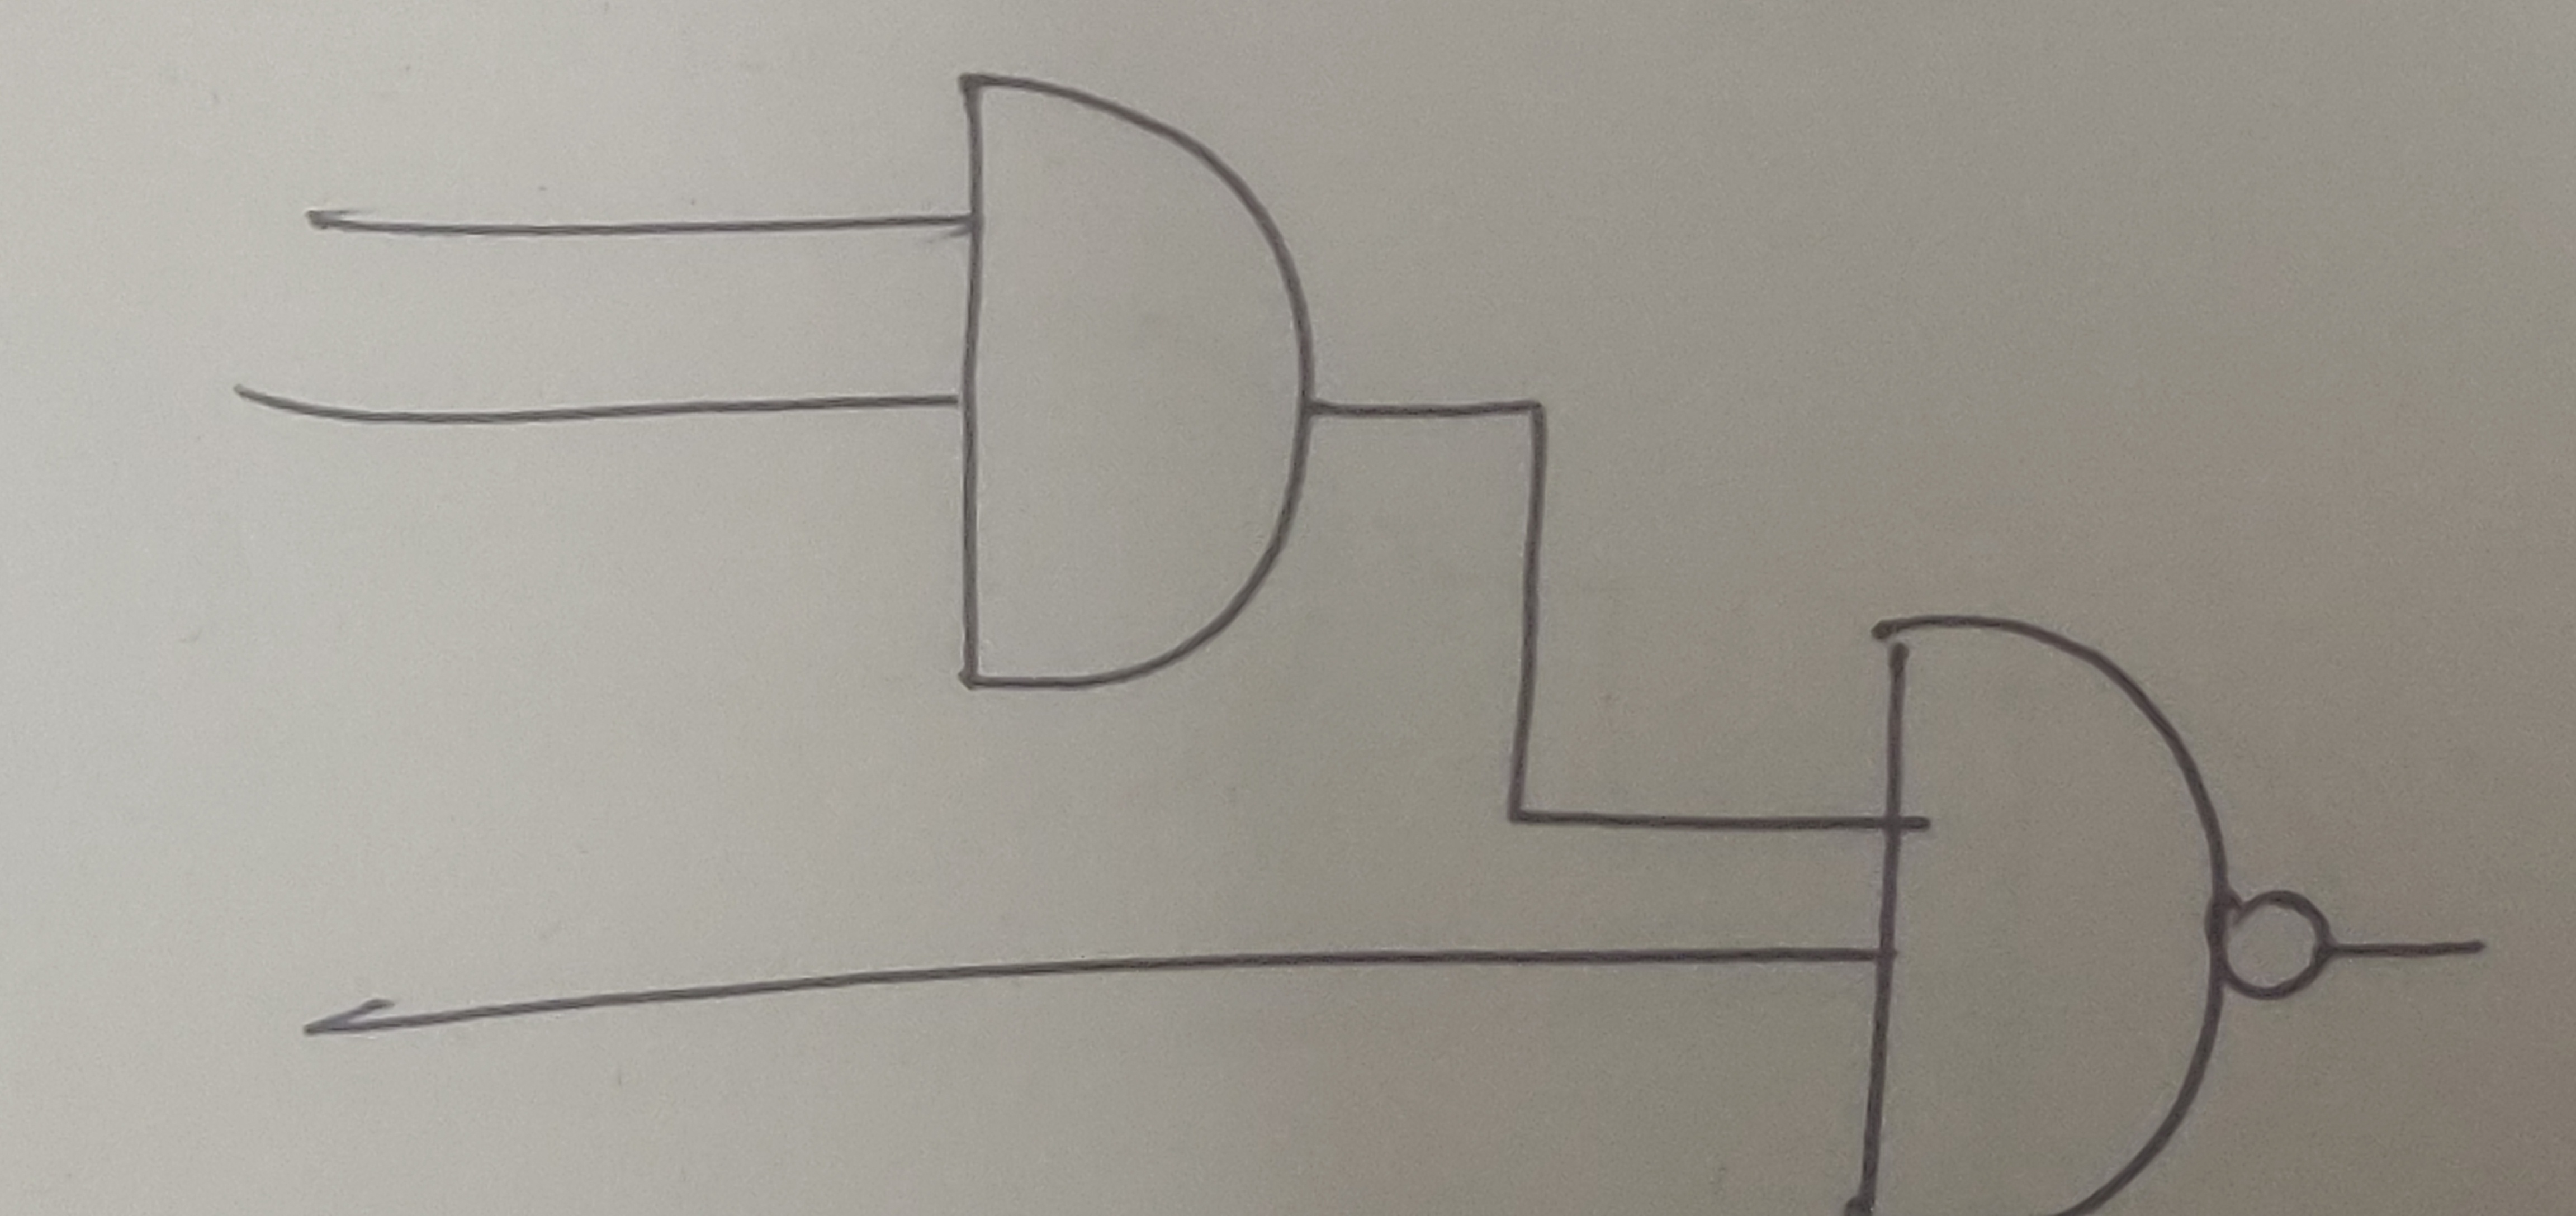and: (943, 66, 1324, 700), (1866, 618, 2229, 1216)
not: (2221, 887, 2336, 1002)
